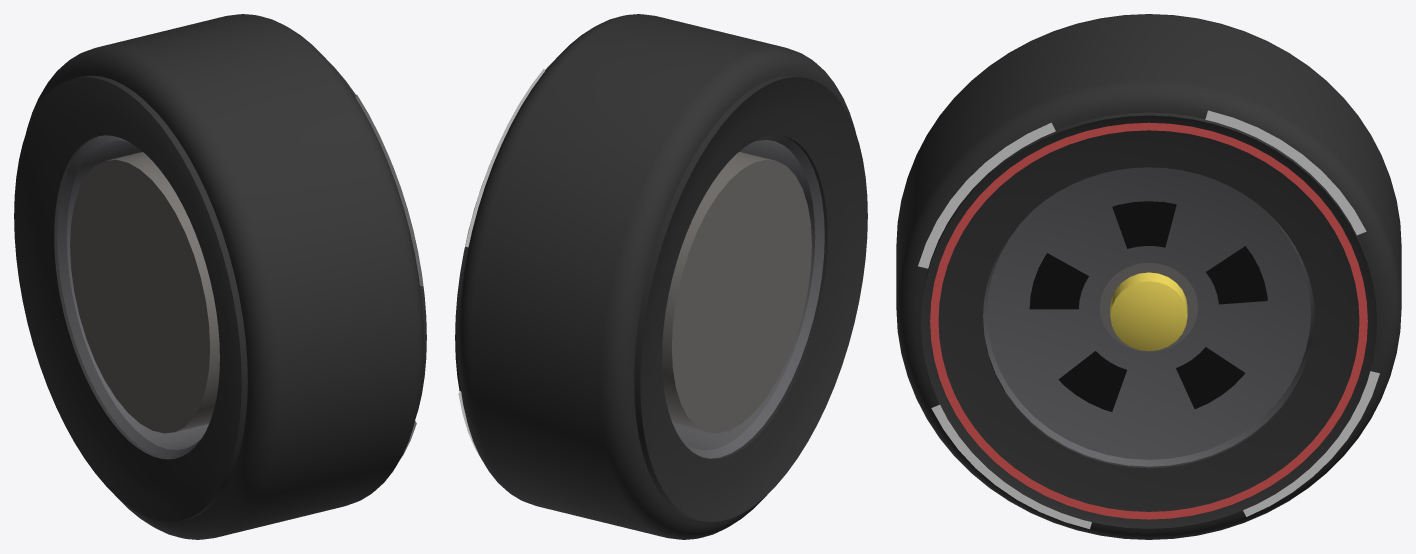
The model's file is f1_2025_wheel_front.glb.
The picture shows the model from 3 angles, left to right: view 1: azimuth 30°, elevation 25°; view 2: azimuth 150°, elevation 25°; view 3: azimuth 270°, elevation 25°; orthographic projection.
Visible parts, largest first — view 1: wheel_front_Tyre, wheel_front_Brake, wheel_front_Rim, wheel_front_TyreText; view 2: wheel_front_Tyre, wheel_front_Brake, wheel_front_Rim, wheel_front_TyreText; view 3: wheel_front_Tyre, wheel_front_Rim, wheel_front_Inlet, wheel_front_TyreStripe, wheel_front_TyreText, wheel_front_LiveryAccent, wheel_front_Brake.
Part boxes in pixels (x1,y1,x2,y2): wheel_front_Tyre: (14, 14, 426, 539); wheel_front_Brake: (70, 152, 219, 433); wheel_front_Rim: (57, 135, 208, 458); wheel_front_TyreText: (356, 94, 423, 457); wheel_front_Tyre: (455, 14, 867, 539); wheel_front_Brake: (662, 152, 811, 433); wheel_front_Rim: (673, 135, 824, 458); wheel_front_TyreText: (458, 68, 544, 460); wheel_front_Tyre: (896, 14, 1401, 539); wheel_front_Rim: (983, 167, 1314, 466); wheel_front_Inlet: (1029, 201, 1267, 411); wheel_front_TyreStripe: (930, 122, 1367, 519); wheel_front_TyreText: (918, 110, 1379, 529); wheel_front_LiveryAccent: (1110, 272, 1187, 351); wheel_front_Brake: (1100, 263, 1197, 351).
Size of the model in its own units: 0.305 by 0.72 by 0.72.
